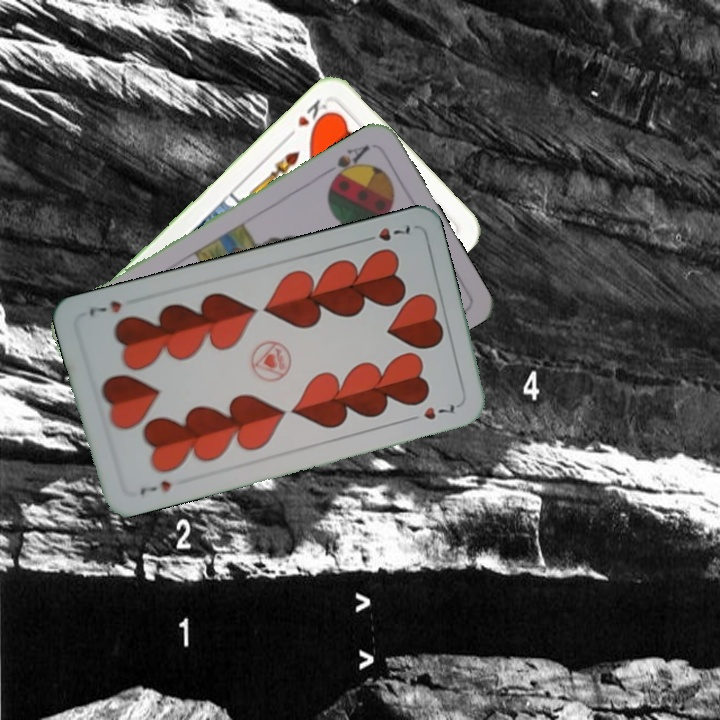H7: (357, 220, 413, 246), (136, 476, 174, 498)
HK: (282, 95, 335, 142)
SA: (321, 140, 373, 185)
